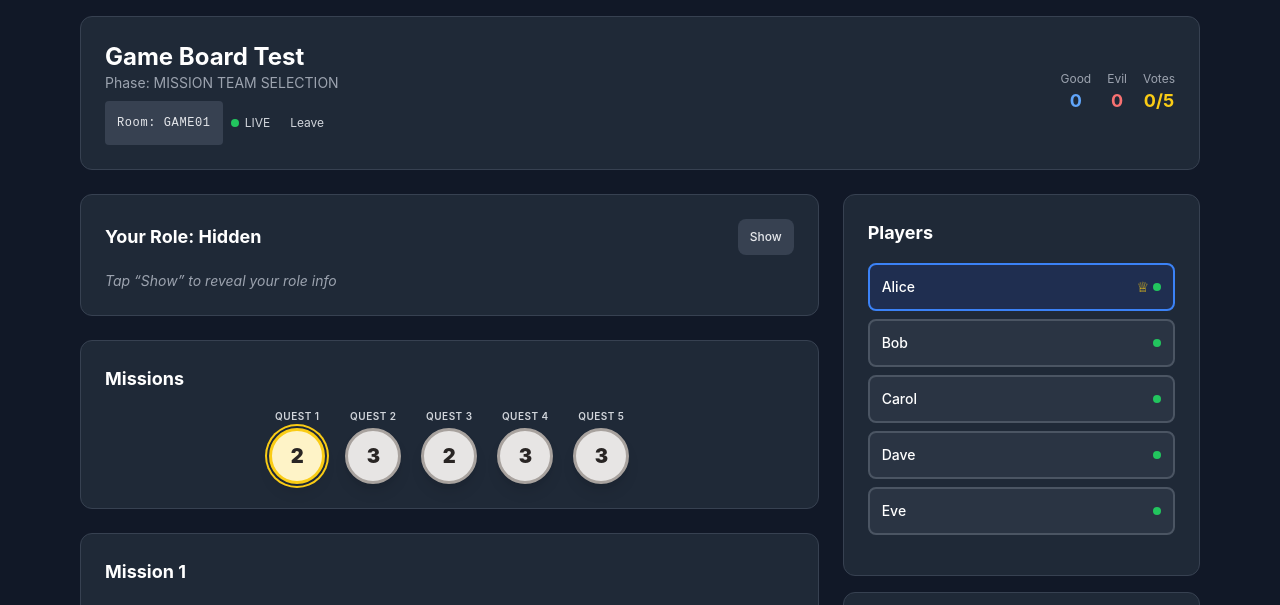
Test case: GameBoard › role info display › shows role info when Show button is clicked
Click the button "Show".
click(766, 237)  # box [738,219,794,255]
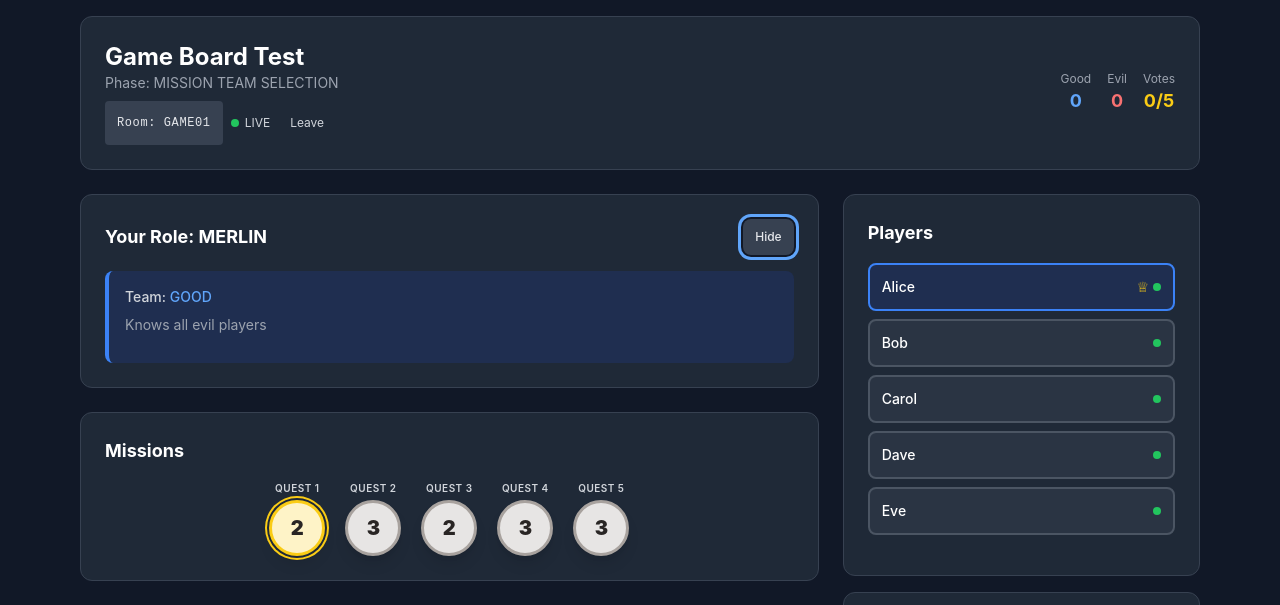
expect the heading "Your Role: MERLIN" is shown: met, box [105,223,267,251]
expect the text "GOOD" is shown: met, box [170,288,212,305]
expect the text "Knows all evil players" is shown: met, box [125,316,267,333]
